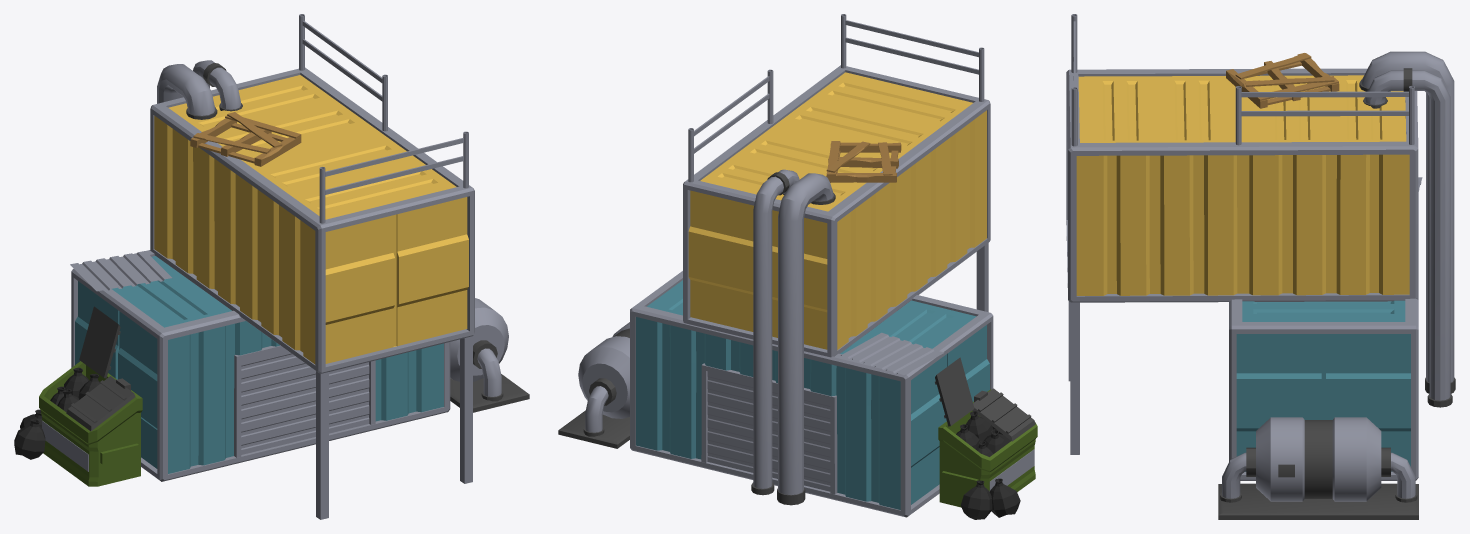
The model's file is struct4.glb.
3 views of the same model, side by side, from view 1: azimuth 30°, elevation 25°; view 2: azimuth 150°, elevation 25°; view 3: azimuth 270°, elevation 25° (orthographic). The views are drawn at different scales.
Parts seen in each view (by area): view 1: Structure_4; view 2: Structure_4; view 3: Structure_4.
Boxes of the visible parts, x1,y1,x2,y2 form: Structure_4: (14, 14, 529, 519); Structure_4: (558, 14, 1037, 519); Structure_4: (1066, 14, 1455, 519).
Bounding box in the file's own units: 10.39 × 7.66 × 7.41.
